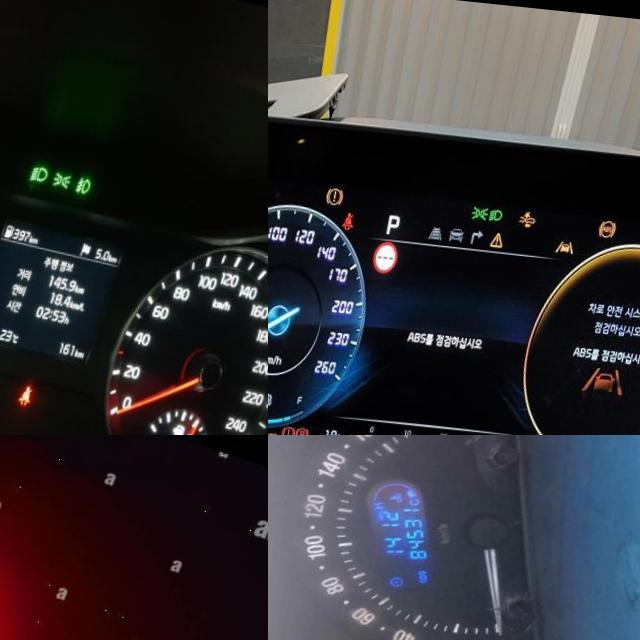Central Warning lamp: (499, 223, 514, 240)
FrontFogLight: (82, 167, 101, 187)
LaneCenteringOff: (564, 231, 584, 244)
Low beam: (36, 156, 58, 177), (496, 200, 512, 214)
SideLamp: (59, 163, 81, 182), (479, 198, 497, 214)
